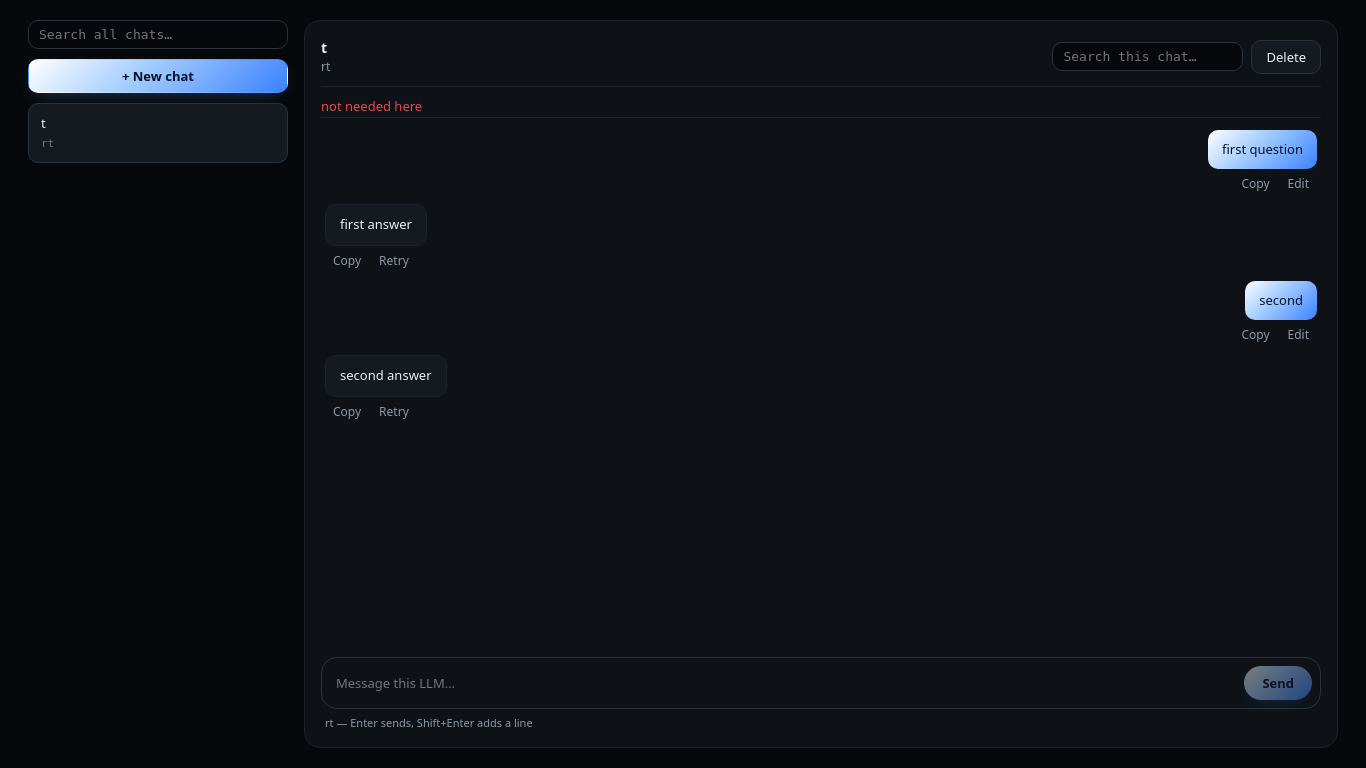
Test: message actions › Copy puts that message's text on the clipboard
Check: the text "first answer" is shown, box [325,204,427,246]
What coordinates should you click on to do the following:
click the button with aria-label "Copy message"
I would click on:
 (347, 260)
Its box is [325,250,369,270].
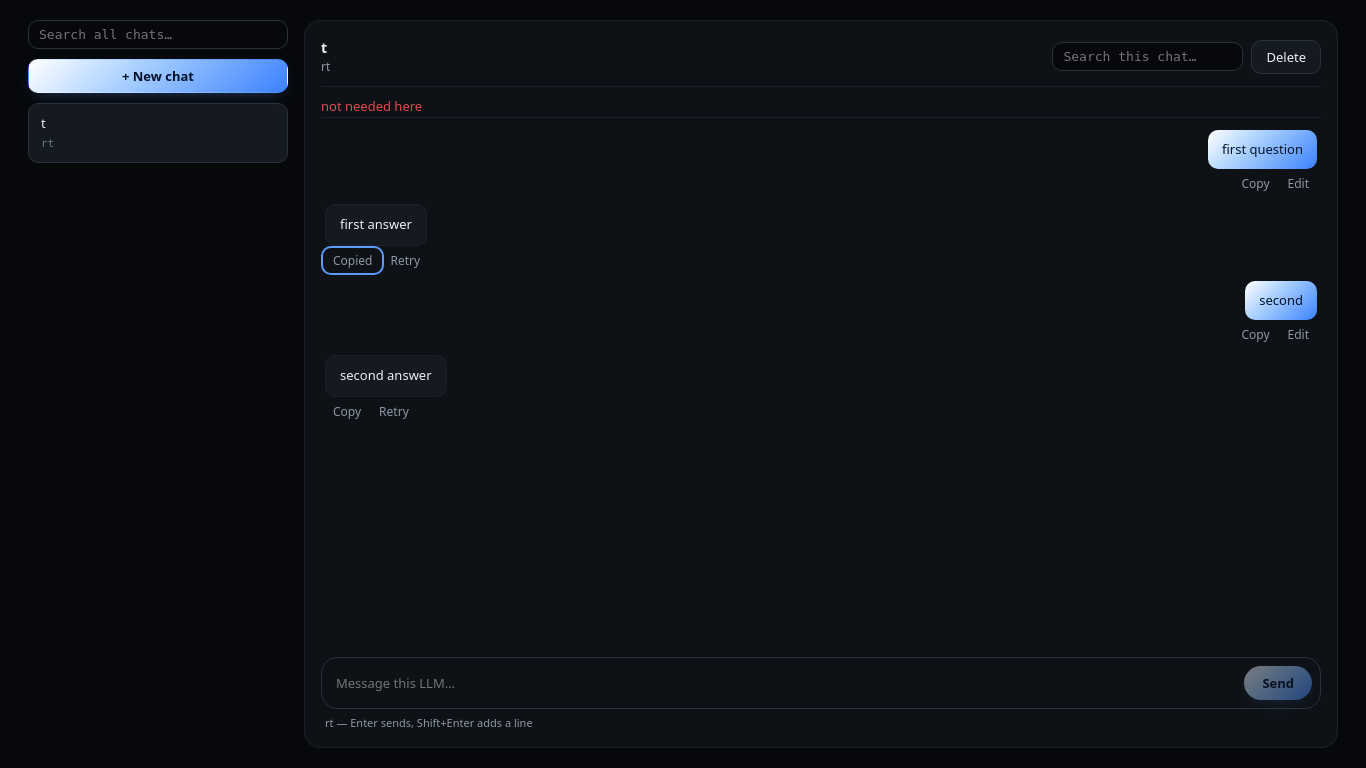
Check: the button "Copied" is shown, box [325,250,380,270]
